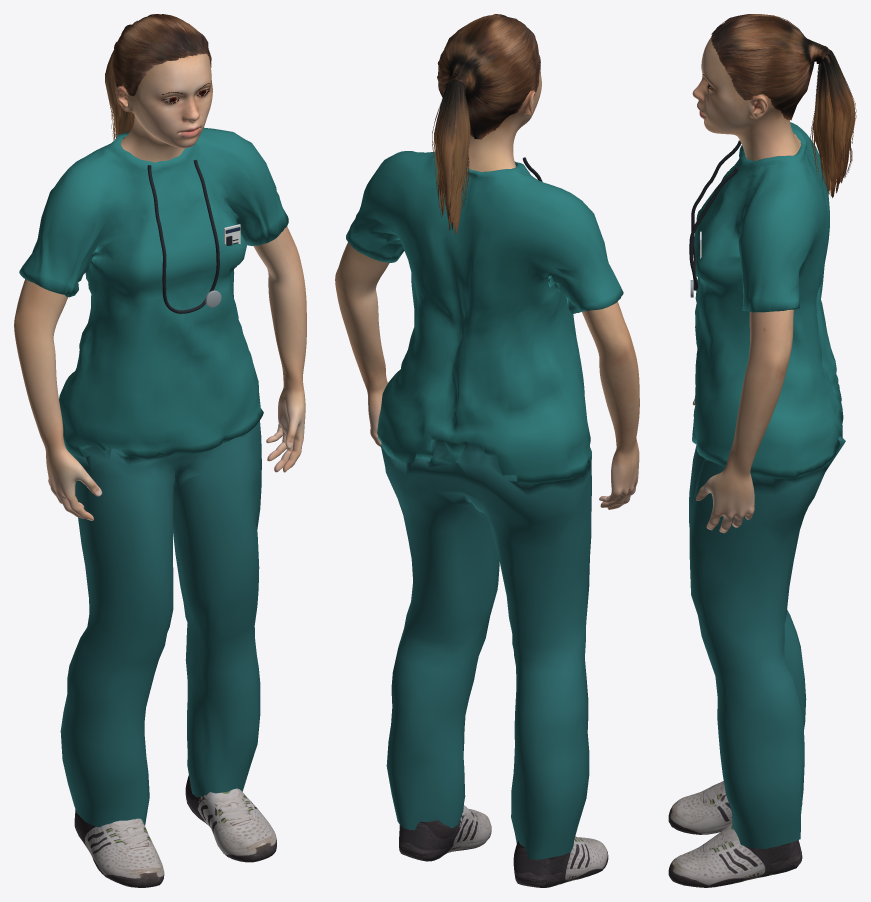
Rendered from nurse.glb.
3 views of the same model, side by side, from view 1: azimuth 30°, elevation 25°; view 2: azimuth 150°, elevation 25°; view 3: azimuth 270°, elevation 25° (orthographic). The views are drawn at different scales.
Parts seen in each view (by area): view 1: male_casualsuit06, Alex | anatomical body, shoes05, ponytail01, Stethoscope tubing; view 2: male_casualsuit06, Alex | anatomical body, ponytail01, shoes05; view 3: male_casualsuit06, Alex | anatomical body, ponytail01, shoes05, Stethoscope tubing.
Boxes of the visible parts, <box> form: male_casualsuit06: <box>19,127,288,827</box>; Alex | anatomical body: <box>14,54,306,520</box>; shoes05: <box>74,775,276,887</box>; ponytail01: <box>105,14,211,140</box>; Stethoscope tubing: <box>147,159,219,313</box>; male_casualsuit06: <box>346,151,623,859</box>; Alex | anatomical body: <box>335,69,639,509</box>; ponytail01: <box>432,14,540,234</box>; shoes05: <box>399,805,608,887</box>; male_casualsuit06: <box>689,122,845,849</box>; Alex | anatomical body: <box>692,37,800,533</box>; ponytail01: <box>711,14,856,197</box>; shoes05: <box>668,781,802,887</box>; Stethoscope tubing: <box>689,140,741,290</box>.
Size of the model in its own units: 0.5913 by 1.64 by 0.3344.
14 materials, 14 textured.
